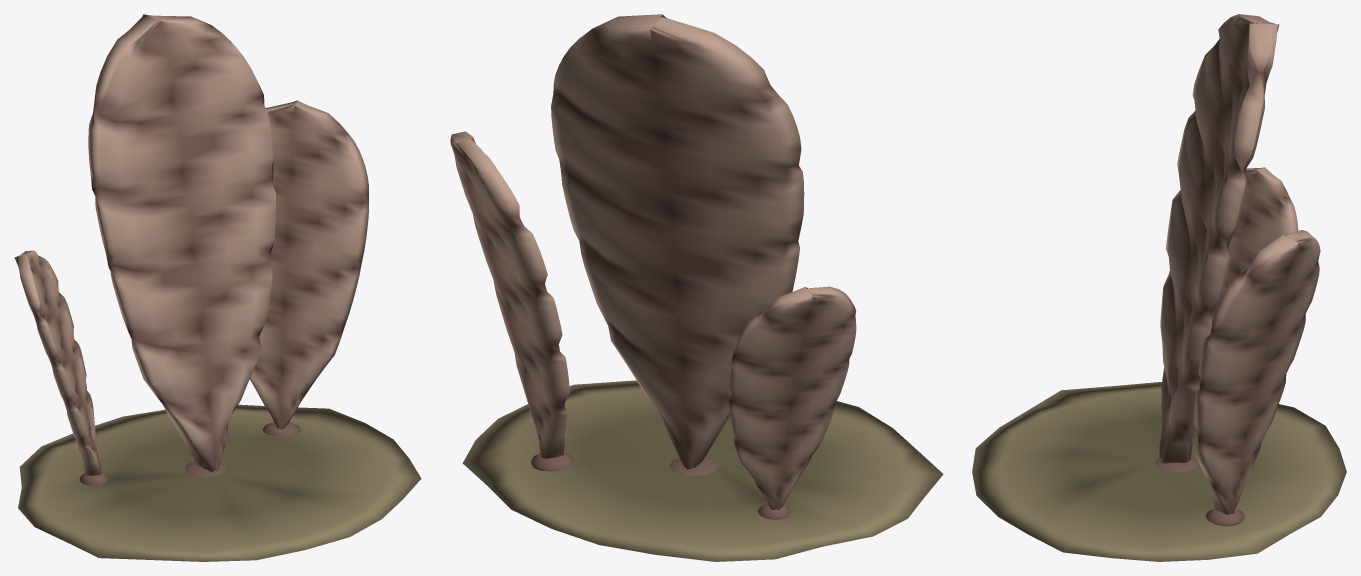
The model's file is Beothukis.fbx.
3 views of the same model, side by side, from view 1: azimuth 30°, elevation 25°; view 2: azimuth 150°, elevation 25°; view 3: azimuth 270°, elevation 25° (orthographic). The views are drawn at different scales.
Visible parts, largest first — view 1: Beothukis; view 2: Beothukis; view 3: Beothukis.
Part boxes in pixels (x1,y1,x2,y2): Beothukis: [14, 14, 421, 561]; Beothukis: [450, 14, 943, 561]; Beothukis: [972, 14, 1346, 561].
Size of the model in its own units: 1.31 by 1.5 by 1.14.
